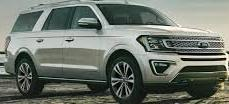SUV: (5, 1, 226, 103)
